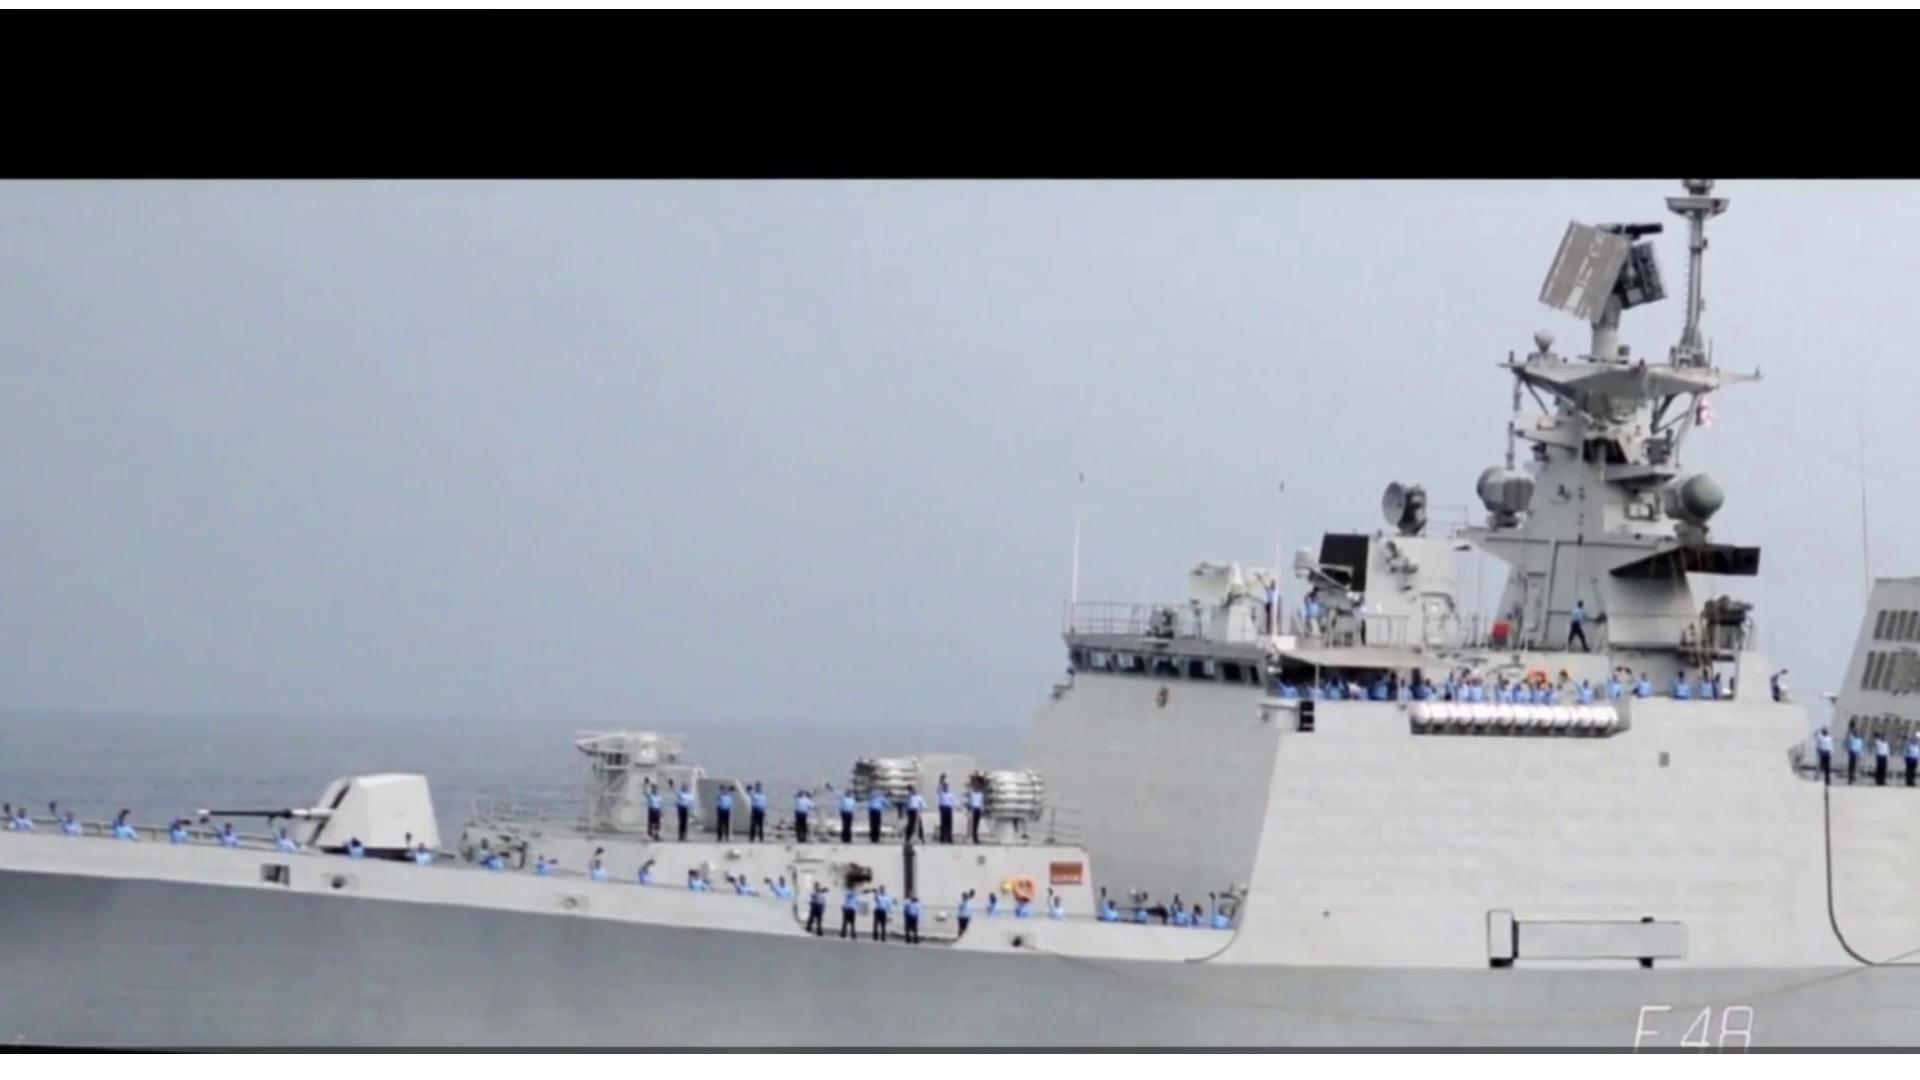OCR: (1606, 986, 1764, 1048)
